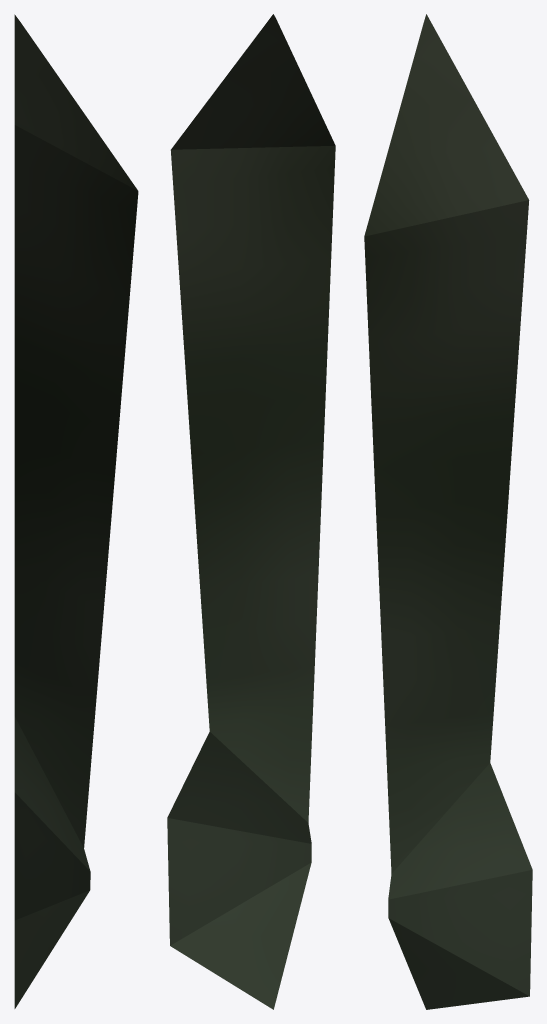
3 views of the same model, side by side, from view 1: azimuth 90°, elevation 25°; view 2: azimuth 150°, elevation 25°; view 3: azimuth 330°, elevation 25° (orthographic).
Size of the model in its own units: 0.0287 by 0.2563 by 0.0289.
Materials: 1 (1 with a texture image).
